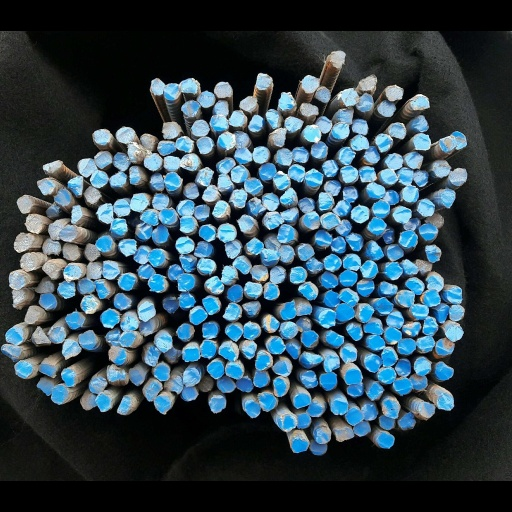dipstick: (13, 232, 34, 252), (106, 366, 127, 386), (365, 240, 384, 261), (77, 158, 97, 177), (19, 253, 40, 271), (144, 380, 162, 401), (302, 350, 323, 368), (80, 295, 99, 314), (232, 256, 251, 275), (298, 281, 318, 299), (243, 178, 263, 196), (41, 160, 64, 175), (195, 168, 214, 186), (179, 254, 197, 273), (257, 393, 276, 411), (280, 413, 298, 432), (261, 248, 280, 266), (238, 215, 257, 233), (263, 211, 282, 229), (319, 372, 337, 391), (336, 303, 355, 321), (341, 87, 360, 105), (405, 277, 424, 295), (435, 361, 453, 380), (393, 377, 412, 395), (97, 203, 113, 224), (145, 345, 161, 366), (285, 339, 301, 360), (94, 151, 112, 169), (129, 166, 147, 184), (25, 215, 43, 233), (42, 261, 60, 279), (8, 272, 26, 290), (11, 289, 29, 307), (244, 281, 262, 299), (233, 131, 251, 149), (301, 75, 319, 93), (356, 279, 374, 297), (436, 393, 454, 411), (162, 121, 181, 138), (115, 127, 134, 144), (113, 152, 130, 171), (143, 154, 162, 171), (180, 154, 199, 171), (100, 310, 119, 327), (5, 327, 24, 344), (78, 331, 97, 348), (155, 332, 172, 351), (163, 376, 182, 393), (243, 399, 260, 418), (204, 276, 223, 293), (266, 109, 283, 128), (307, 400, 326, 417), (319, 309, 336, 328), (338, 146, 355, 165), (68, 176, 83, 197), (1, 344, 22, 359), (191, 119, 209, 136), (139, 133, 156, 151), (84, 186, 101, 204), (112, 199, 130, 216), (130, 194, 148, 211), (147, 250, 165, 267), (148, 274, 165, 292), (62, 243, 80, 260), (113, 293, 131, 310), (108, 346, 126, 363), (225, 363, 243, 380), (301, 331, 319, 348), (250, 264, 268, 281), (264, 232, 282, 249), (295, 297, 312, 315), (229, 110, 247, 127), (275, 148, 292, 166), (326, 330, 344, 347), (339, 270, 357, 287), (344, 253, 361, 271), (346, 233, 363, 251), (340, 165, 358, 182), (375, 134, 393, 151), (346, 323, 363, 341), (386, 311, 404, 328), (436, 338, 454, 355), (414, 357, 431, 375), (365, 354, 382, 372), (378, 367, 396, 384), (382, 400, 399, 418), (345, 408, 363, 425), (216, 157, 235, 173), (103, 260, 119, 279), (48, 221, 64, 240), (42, 239, 61, 255), (65, 312, 84, 328), (14, 362, 33, 378), (88, 377, 107, 393), (117, 396, 133, 415), (155, 395, 171, 414), (273, 378, 289, 397), (221, 265, 237, 284), (278, 224, 294, 243), (231, 189, 247, 208), (280, 206, 299, 222), (279, 91, 295, 110), (323, 254, 342, 270), (321, 213, 340, 229), (411, 94, 430, 110), (357, 303, 373, 322), (377, 281, 397, 296), (54, 189, 71, 206), (218, 132, 235, 149), (164, 173, 181, 190), (33, 327, 50, 344), (182, 368, 199, 385), (201, 297, 218, 314), (207, 361, 224, 378), (219, 344, 236, 361), (255, 353, 272, 370), (274, 359, 291, 376), (268, 337, 285, 354), (281, 322, 298, 339), (224, 241, 241, 258), (217, 174, 234, 191), (262, 193, 279, 210), (248, 115, 265, 132), (256, 73, 273, 90), (303, 212, 320, 229), (306, 169, 323, 186), (311, 141, 328, 158), (304, 125, 321, 142), (433, 160, 450, 177), (351, 206, 368, 223), (417, 199, 434, 216), (420, 223, 437, 240), (360, 260, 377, 277), (445, 287, 462, 304), (418, 335, 435, 352), (410, 373, 427, 390), (367, 383, 384, 400), (196, 91, 214, 107), (181, 100, 199, 116), (92, 129, 110, 145), (90, 171, 108, 187), (196, 136, 212, 154), (152, 225, 168, 243), (176, 237, 194, 253), (194, 241, 212, 257), (76, 277, 94, 293), (94, 281, 110, 299), (51, 386, 67, 404), (128, 367, 144, 385), (208, 395, 226, 411), (217, 377, 235, 393), (291, 437, 309, 453), (263, 314, 279, 332), (280, 301, 296, 319), (231, 165, 247, 183), (259, 162, 275, 180), (234, 148, 252, 164), (240, 96, 258, 112), (298, 197, 316, 213), (320, 272, 338, 288), (317, 192, 333, 210), (333, 200, 351, 216), (322, 159, 338, 177), (329, 50, 345, 68), (357, 93, 373, 111), (373, 200, 389, 218), (393, 207, 411, 223), (368, 218, 386, 234), (384, 263, 402, 279), (426, 275, 444, 291), (398, 338, 416, 354), (36, 179, 55, 194), (61, 341, 80, 356), (274, 171, 289, 190), (271, 128, 286, 147), (350, 135, 369, 150), (438, 136, 457, 151), (423, 317, 438, 336), (395, 358, 410, 377), (176, 136, 193, 152), (211, 115, 228, 131), (183, 182, 199, 199), (177, 200, 194, 216), (136, 223, 152, 240), (60, 225, 77, 241), (95, 236, 112, 252), (168, 264, 184, 281), (118, 275, 135, 291), (24, 307, 41, 323), (39, 293, 56, 309), (139, 302, 155, 319), (178, 274, 194, 291), (37, 379, 53, 396), (80, 393, 97, 409), (48, 327, 65, 343), (177, 323, 194, 339), (189, 308, 206, 324), (202, 322, 218, 339), (199, 341, 216, 357), (223, 302, 239, 319), (253, 371, 270, 387), (301, 371, 317, 388), (226, 285, 243, 301), (295, 316, 312, 332), (270, 266, 286, 283), (218, 225, 235, 241), (278, 245, 294, 262), (289, 267, 306, 283), (288, 165, 304, 182), (298, 244, 314, 261), (331, 399, 348, 415), (306, 257, 323, 273), (315, 230, 332, 246), (330, 236, 346, 253), (359, 76, 376, 92), (352, 118, 368, 135), (378, 100, 395, 116), (411, 115, 428, 131), (389, 123, 406, 139), (359, 166, 376, 182), (385, 153, 402, 169), (405, 152, 422, 168), (413, 134, 430, 150), (425, 245, 441, 262), (398, 290, 414, 307), (375, 298, 392, 314), (368, 334, 385, 350), (399, 412, 415, 429), (377, 432, 394, 448), (360, 404, 377, 420), (344, 368, 361, 384), (179, 78, 197, 93), (214, 82, 232, 97), (212, 201, 230, 216), (84, 244, 99, 262), (17, 195, 32, 213), (96, 394, 111, 412), (243, 301, 261, 316), (336, 427, 354, 442), (398, 167, 413, 185), (367, 183, 385, 198), (399, 231, 417, 246), (403, 321, 421, 336), (452, 130, 467, 148), (61, 368, 75, 387), (152, 194, 168, 210), (119, 239, 135, 255), (133, 248, 149, 264), (163, 296, 179, 312), (226, 325, 242, 341), (243, 323, 259, 339), (240, 341, 256, 357), (253, 147, 269, 163), (292, 146, 308, 162), (315, 427, 331, 443), (340, 346, 356, 362), (324, 291, 340, 307), (334, 219, 350, 235), (338, 108, 354, 124), (416, 258, 432, 274), (424, 290, 440, 306), (379, 414, 395, 430), (164, 83, 179, 100), (110, 172, 127, 187), (159, 209, 176, 224), (198, 226, 215, 241), (86, 262, 101, 279), (178, 292, 195, 307), (38, 363, 55, 378), (181, 386, 198, 401), (294, 393, 311, 408), (246, 239, 263, 254), (281, 188, 296, 205), (310, 440, 327, 455), (324, 355, 339, 372), (316, 116, 331, 133), (332, 123, 349, 138), (380, 169, 397, 184), (413, 169, 428, 186), (450, 168, 465, 185), (386, 245, 403, 260), (412, 304, 429, 319), (384, 328, 401, 343), (381, 349, 396, 366), (353, 421, 370, 436), (150, 77, 164, 95), (157, 141, 175, 155), (150, 173, 164, 191), (63, 265, 81, 279), (57, 282, 75, 296), (120, 316, 138, 330), (285, 117, 303, 131), (300, 102, 318, 116), (441, 189, 455, 207), (417, 403, 435, 417), (164, 156, 180, 171), (202, 185, 217, 201), (111, 219, 127, 234), (154, 365, 169, 381), (183, 346, 199, 361), (264, 283, 279, 299), (343, 186, 358, 202), (315, 86, 330, 102), (365, 147, 380, 163), (403, 186, 418, 202), (197, 259, 214, 273), (138, 264, 155, 278), (236, 378, 253, 392), (36, 279, 54, 292), (364, 321, 382, 334), (435, 305, 448, 323), (296, 413, 311, 428), (387, 85, 402, 100), (402, 259, 417, 274), (449, 305, 464, 320), (214, 100, 228, 116), (179, 218, 195, 232), (324, 181, 340, 195), (141, 212, 158, 225), (119, 332, 136, 345), (384, 190, 399, 204), (347, 384, 363, 396), (71, 206, 82, 223), (195, 205, 209, 218)
